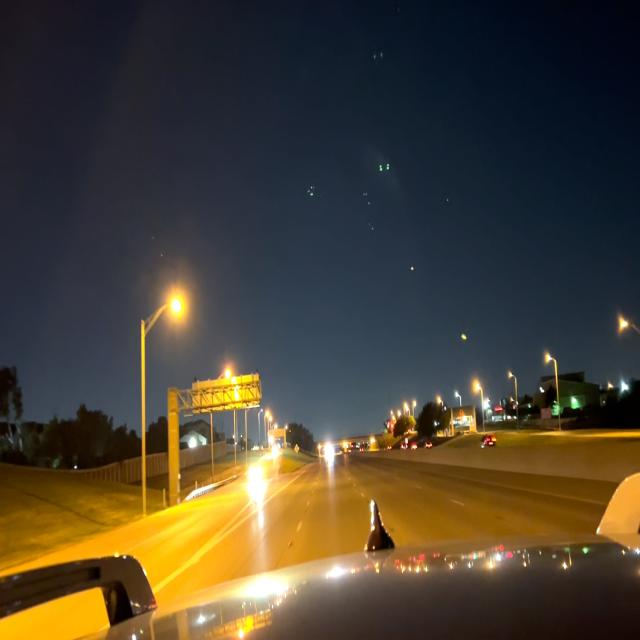back-of-sign: (193, 372, 261, 416)
